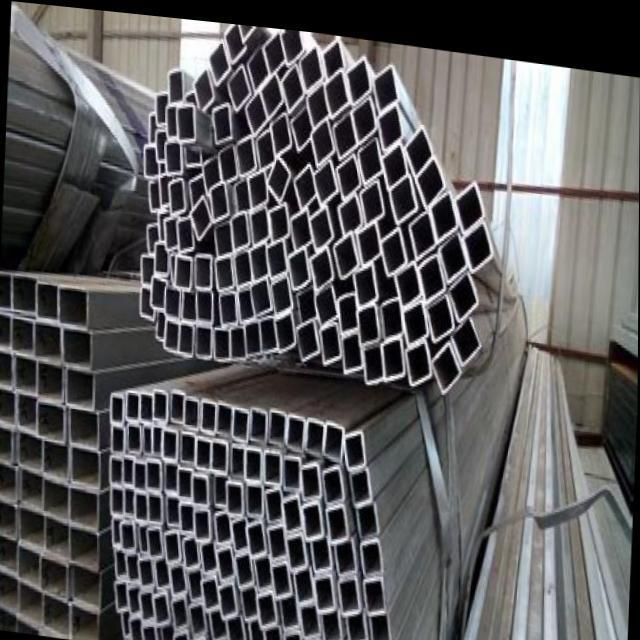pipe: (70, 563, 100, 606), (417, 148, 443, 196), (453, 310, 480, 353), (70, 406, 97, 449), (45, 594, 72, 637), (43, 555, 69, 599), (435, 336, 460, 381), (59, 286, 87, 324), (466, 216, 491, 258), (71, 489, 99, 526), (429, 288, 451, 334), (407, 121, 431, 163), (68, 368, 95, 405), (63, 329, 90, 365), (404, 295, 426, 339), (441, 226, 464, 268), (410, 207, 433, 249), (35, 322, 60, 360), (73, 525, 97, 564), (453, 264, 474, 308), (20, 583, 43, 623), (72, 448, 99, 482), (21, 508, 45, 546), (383, 223, 405, 264), (378, 100, 401, 139), (391, 172, 414, 211), (19, 545, 41, 585), (39, 362, 64, 397), (40, 402, 64, 438), (73, 607, 99, 640), (325, 65, 346, 105), (45, 442, 68, 478), (282, 63, 303, 102), (360, 135, 381, 174), (18, 434, 42, 468), (46, 516, 69, 551), (312, 118, 333, 156), (459, 181, 480, 219), (339, 188, 360, 226), (398, 257, 419, 295), (191, 195, 211, 234), (348, 54, 367, 95), (375, 62, 396, 99), (408, 335, 429, 372), (334, 109, 354, 147), (359, 217, 378, 257), (338, 152, 359, 188), (381, 294, 402, 330), (421, 250, 442, 286), (45, 481, 66, 517), (210, 38, 229, 77), (246, 90, 265, 129), (434, 190, 455, 225), (16, 356, 37, 391), (14, 276, 36, 309), (355, 92, 374, 130), (19, 391, 38, 429), (194, 65, 212, 105), (316, 156, 336, 192), (385, 140, 405, 176), (20, 473, 42, 505), (308, 80, 327, 117), (317, 281, 336, 318), (364, 335, 382, 374), (383, 332, 403, 367), (14, 318, 34, 353), (312, 241, 330, 279), (337, 231, 356, 267), (362, 177, 380, 215), (359, 299, 378, 335), (263, 71, 280, 111), (355, 262, 375, 296), (327, 501, 348, 533), (300, 46, 319, 81), (0, 500, 17, 539), (265, 29, 282, 67), (270, 519, 288, 554), (301, 598, 320, 631), (230, 66, 248, 100), (249, 45, 266, 81), (269, 157, 287, 191), (297, 162, 314, 198), (0, 574, 17, 610), (345, 327, 361, 365), (363, 533, 382, 565), (248, 517, 267, 549), (313, 532, 332, 564), (178, 101, 195, 136), (226, 19, 243, 54), (290, 244, 307, 279), (312, 203, 329, 238), (340, 572, 358, 605), (297, 563, 315, 596), (324, 462, 343, 493), (366, 572, 385, 603), (323, 604, 342, 635), (38, 282, 56, 314), (346, 428, 364, 460), (371, 605, 389, 637), (282, 24, 301, 54), (0, 389, 15, 427), (232, 510, 247, 548), (324, 37, 341, 70), (322, 323, 339, 356), (271, 201, 287, 236), (252, 276, 270, 307), (359, 499, 378, 528), (292, 209, 309, 241), (0, 540, 17, 572), (256, 549, 272, 583), (337, 533, 354, 565), (168, 67, 184, 100), (221, 578, 237, 611), (298, 318, 315, 349), (0, 466, 17, 497), (285, 493, 302, 524), (304, 499, 321, 530), (289, 530, 306, 561), (214, 100, 229, 135), (294, 103, 309, 138), (177, 215, 193, 247), (216, 252, 232, 284), (218, 543, 234, 575), (190, 598, 206, 630), (238, 135, 253, 169), (353, 463, 370, 493), (252, 205, 268, 236), (325, 419, 341, 450), (274, 559, 290, 590), (318, 570, 334, 601), (176, 252, 191, 285), (211, 181, 226, 214), (274, 111, 288, 146), (144, 142, 160, 172), (197, 286, 212, 318), (304, 460, 320, 490), (259, 588, 275, 618), (282, 592, 298, 622), (258, 128, 272, 162), (210, 605, 227, 633), (203, 575, 220, 603), (349, 607, 367, 633), (151, 276, 166, 307), (173, 594, 188, 625), (274, 277, 290, 306), (307, 415, 323, 444), (155, 591, 171, 620), (170, 176, 184, 209), (154, 240, 168, 272), (140, 284, 154, 316), (340, 291, 354, 323), (217, 508, 231, 540), (229, 612, 245, 640), (270, 406, 285, 435), (228, 478, 243, 507), (196, 252, 210, 283), (237, 549, 253, 576), (216, 219, 230, 249), (251, 170, 265, 200), (235, 250, 249, 280), (246, 318, 260, 348), (278, 313, 293, 341), (284, 453, 299, 481), (172, 561, 186, 591), (185, 535, 199, 565), (253, 240, 266, 272), (261, 316, 275, 345), (157, 557, 171, 586), (243, 584, 257, 613), (269, 240, 284, 267), (299, 285, 314, 312), (221, 144, 234, 175), (156, 90, 168, 123), (289, 411, 303, 439), (203, 539, 217, 567), (265, 450, 280, 476), (189, 565, 202, 595), (0, 352, 11, 387), (141, 251, 153, 283), (233, 211, 245, 243), (182, 289, 196, 316), (217, 400, 231, 427), (234, 406, 248, 433), (251, 613, 265, 640), (165, 212, 176, 246), (165, 318, 178, 346), (197, 324, 211, 350), (205, 154, 218, 182), (247, 445, 260, 473), (194, 472, 207, 500), (0, 432, 12, 462), (215, 471, 227, 501), (142, 588, 154, 618), (167, 286, 180, 313), (164, 428, 177, 455), (116, 579, 129, 606), (147, 221, 158, 252), (216, 327, 229, 353), (222, 292, 235, 318), (252, 406, 265, 432), (213, 438, 226, 464), (179, 466, 192, 492), (168, 493, 180, 521), (149, 178, 160, 208), (110, 390, 121, 420), (165, 461, 178, 486), (268, 488, 281, 513), (248, 483, 262, 506), (168, 101, 177, 136), (154, 390, 167, 414), (203, 399, 215, 425), (182, 430, 194, 456), (196, 508, 208, 534), (236, 178, 247, 206), (241, 286, 252, 314), (156, 126, 165, 160), (186, 397, 198, 422), (198, 436, 210, 461), (160, 170, 169, 203), (232, 324, 243, 351), (0, 273, 9, 306), (233, 443, 244, 470), (135, 458, 146, 485), (150, 491, 161, 518), (168, 529, 179, 556), (0, 317, 10, 346), (181, 322, 192, 348), (128, 425, 141, 447), (150, 529, 163, 551), (111, 456, 123, 479), (172, 391, 183, 416), (149, 459, 160, 484), (167, 142, 179, 164), (113, 423, 124, 447), (182, 501, 193, 525), (142, 559, 154, 581), (285, 625, 302, 640), (191, 171, 202, 194), (130, 585, 141, 608), (117, 548, 127, 573), (122, 609, 131, 636), (113, 487, 123, 511), (129, 553, 139, 577), (128, 392, 138, 415), (267, 624, 281, 640), (153, 424, 162, 448), (145, 623, 157, 640), (157, 207, 164, 236), (142, 394, 151, 416), (137, 492, 146, 514), (133, 616, 142, 638), (162, 624, 174, 640), (124, 521, 133, 542), (126, 487, 134, 510), (125, 456, 132, 480), (114, 517, 121, 541), (144, 425, 151, 448), (140, 523, 147, 546), (149, 110, 154, 141), (176, 629, 190, 640), (158, 310, 164, 334), (186, 148, 200, 158), (241, 20, 251, 32), (193, 636, 205, 640)
